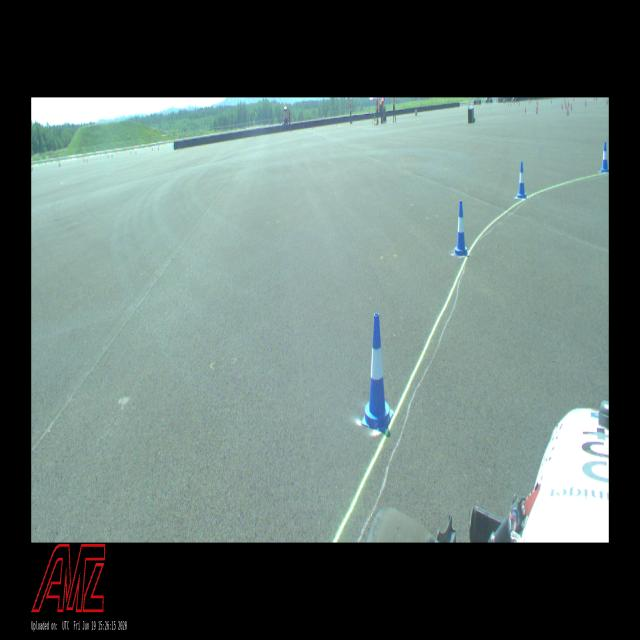blue_cone: (361, 313, 394, 432), (454, 201, 468, 257), (517, 162, 527, 198), (600, 142, 608, 172)
